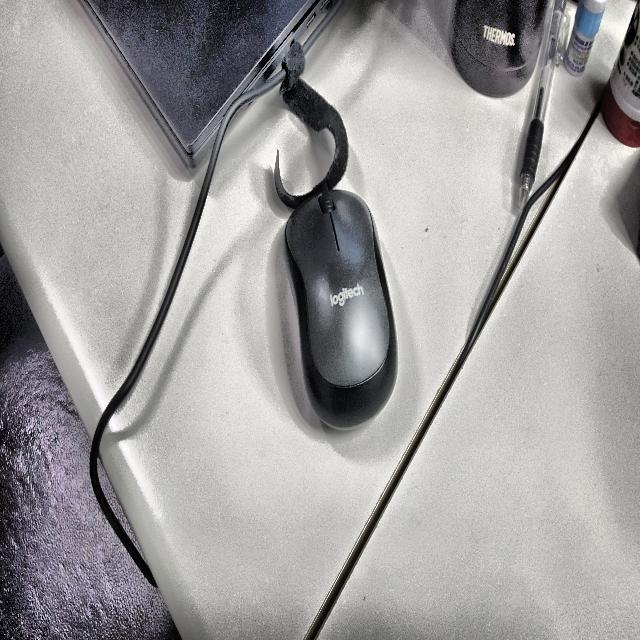Laptop: (78, 0, 324, 167)
MOUSE: (284, 190, 397, 428)
